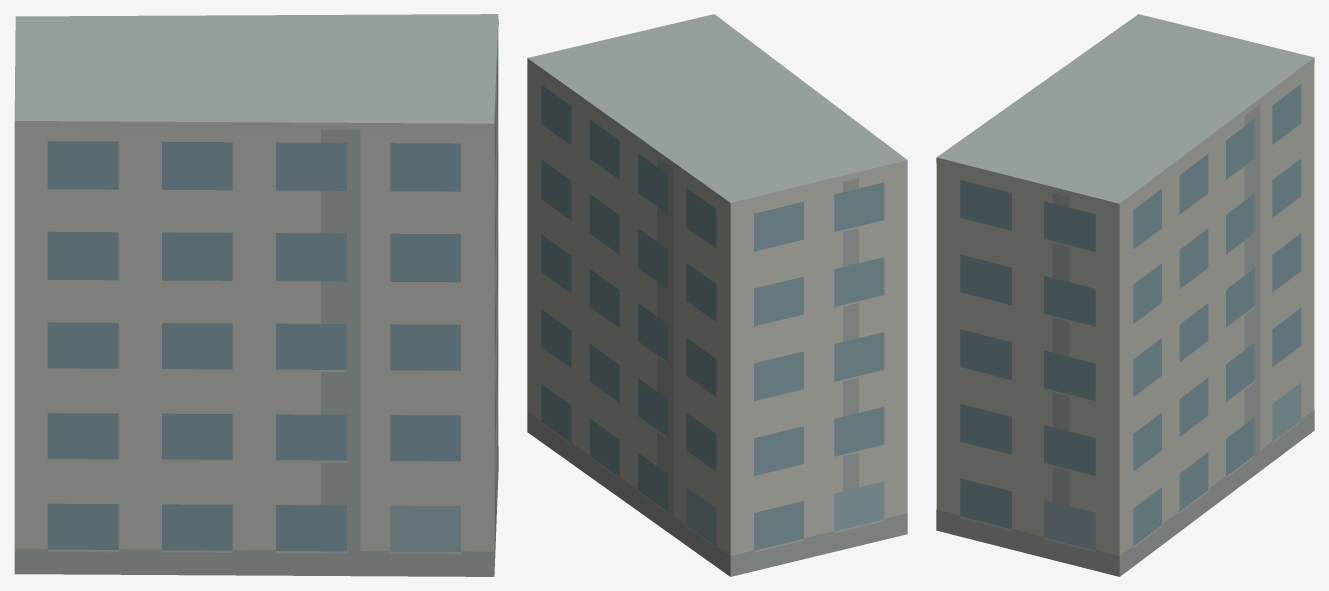
Rendered from survey-upis-32884796.glb.
The picture shows the model from 3 angles, left to right: view 1: azimuth 30°, elevation 25°; view 2: azimuth 150°, elevation 25°; view 3: azimuth 270°, elevation 25°; orthographic projection. The views are drawn at different scales.
Parts seen in each view (by area): view 1: survey-upis-32884796.tmp; view 2: survey-upis-32884796.tmp; view 3: survey-upis-32884796.tmp.
Boxes of the visible parts, x1=… form: survey-upis-32884796.tmp: x1=14, y1=14, x2=498, y2=576; survey-upis-32884796.tmp: x1=527, y1=14, x2=907, y2=576; survey-upis-32884796.tmp: x1=936, y1=14, x2=1314, y2=576.
Bounding box in the file's own units: 16.64 × 15.25 × 14.01.
